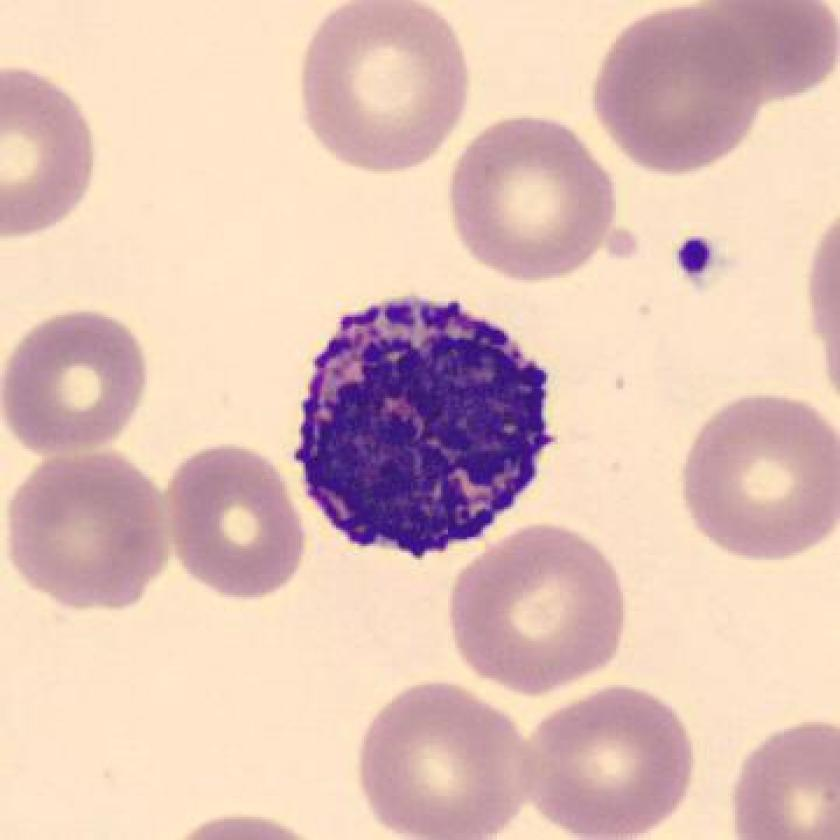basophil: (297, 288, 559, 566)
